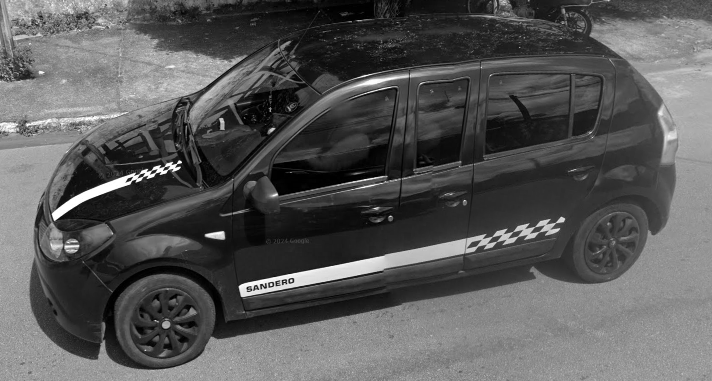car: (36, 12, 676, 366)
